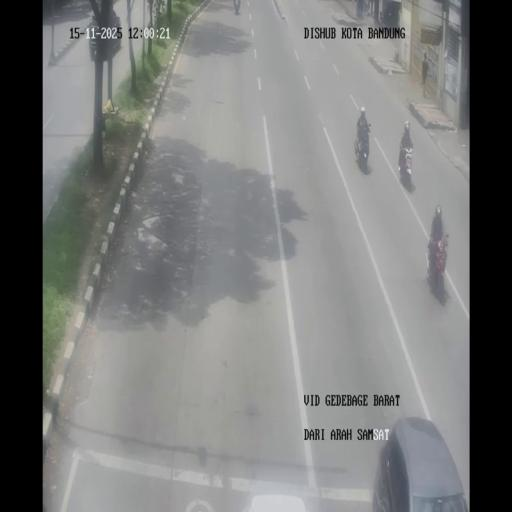car: (372, 418, 469, 510)
truck: (426, 232, 449, 296), (354, 122, 370, 172), (398, 142, 414, 189), (363, 1, 370, 17), (379, 10, 384, 23)
